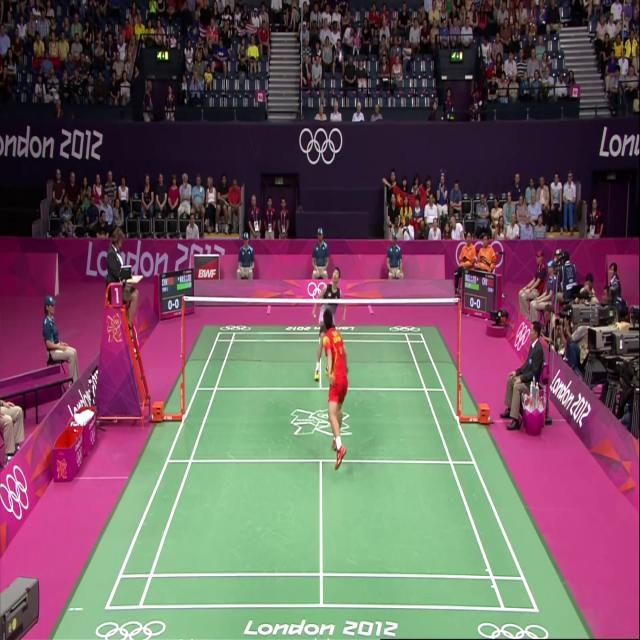Net: (180, 296, 460, 364)
Player1: (311, 311, 355, 495)
Player2: (312, 266, 347, 376)
Shuttlecock: (335, 43, 346, 65)
